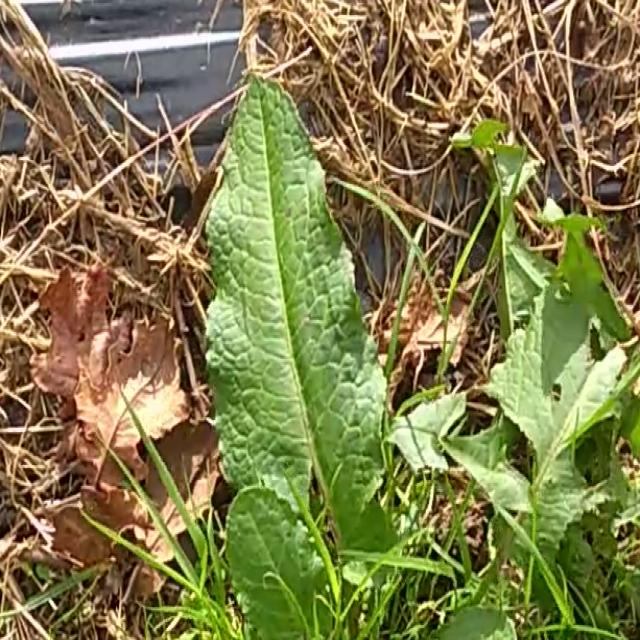organic waste: (155, 51, 640, 640)
